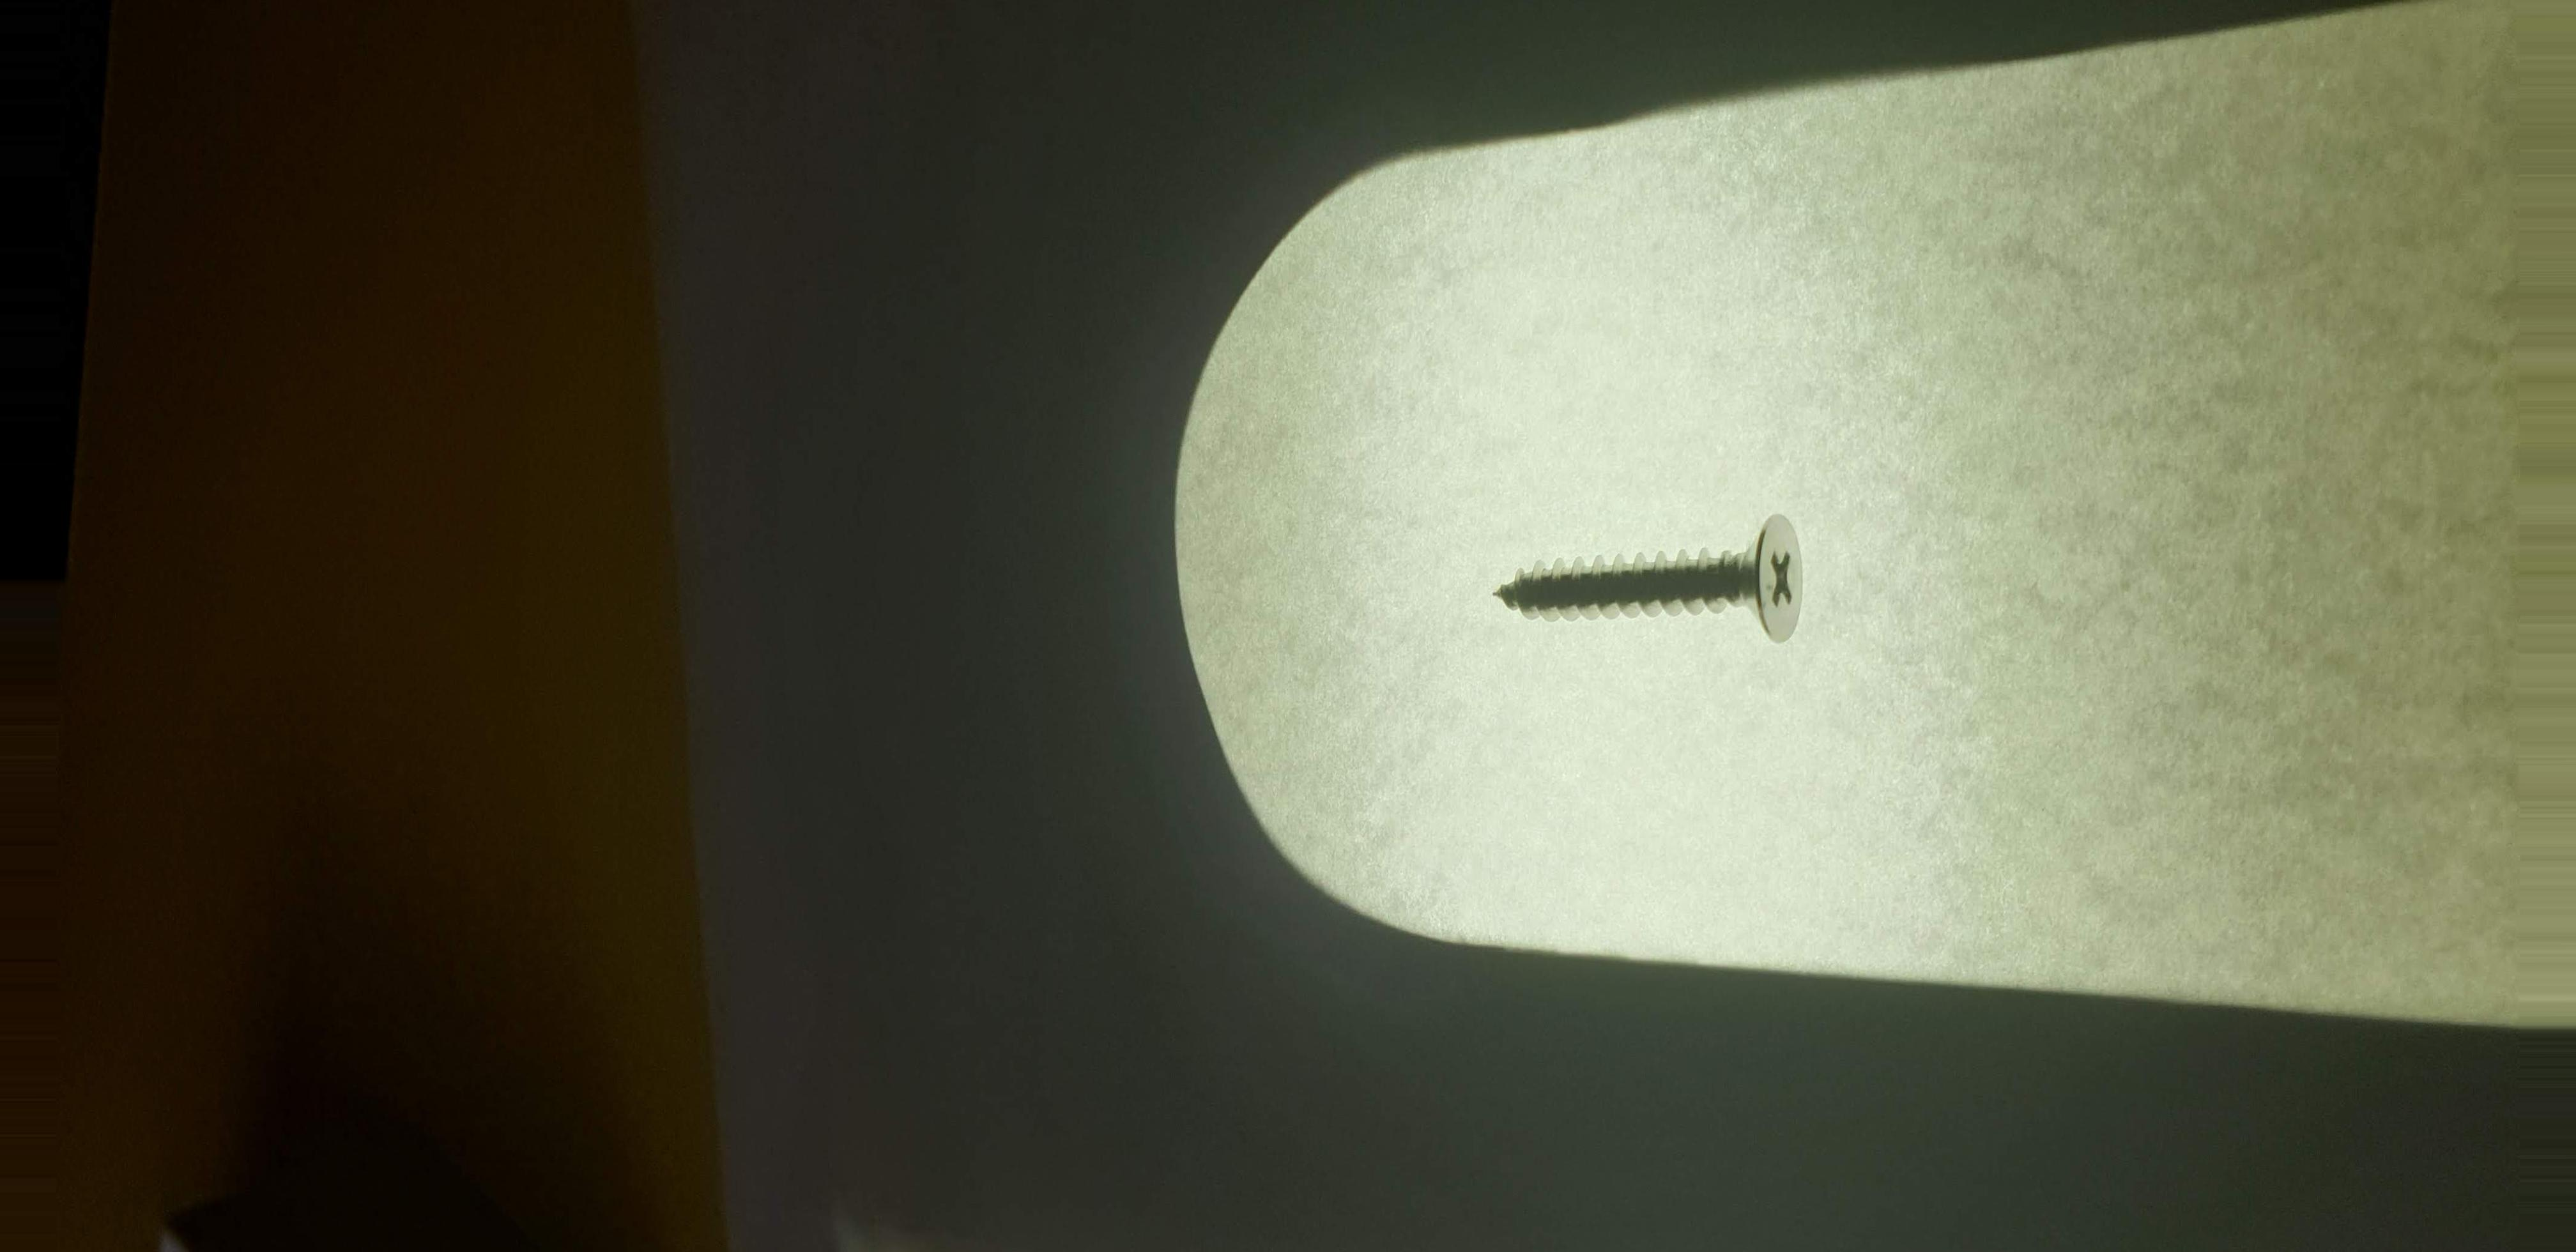S004: (1442, 460, 1886, 698)
